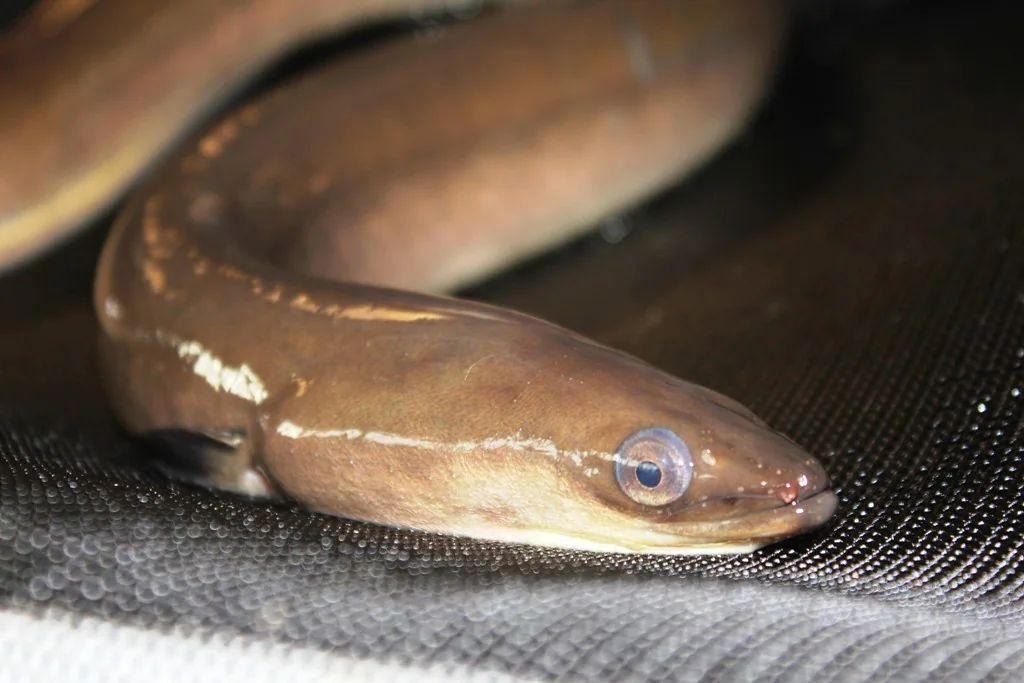Freshwater Eel: (4, 0, 845, 558)
